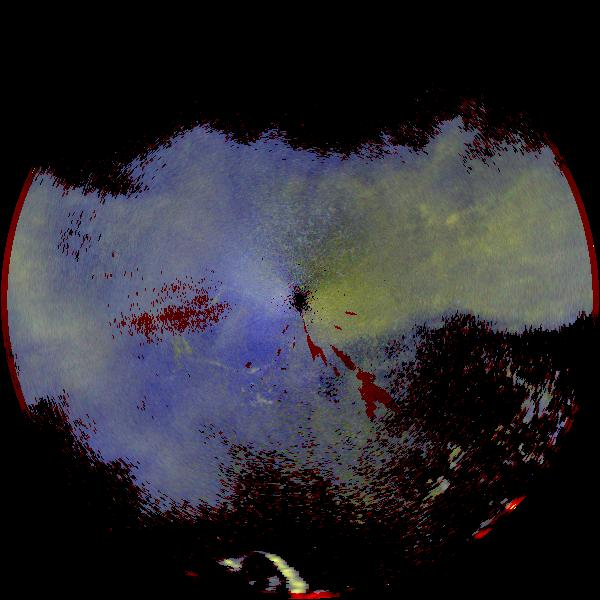roost: (134, 324, 206, 396)
